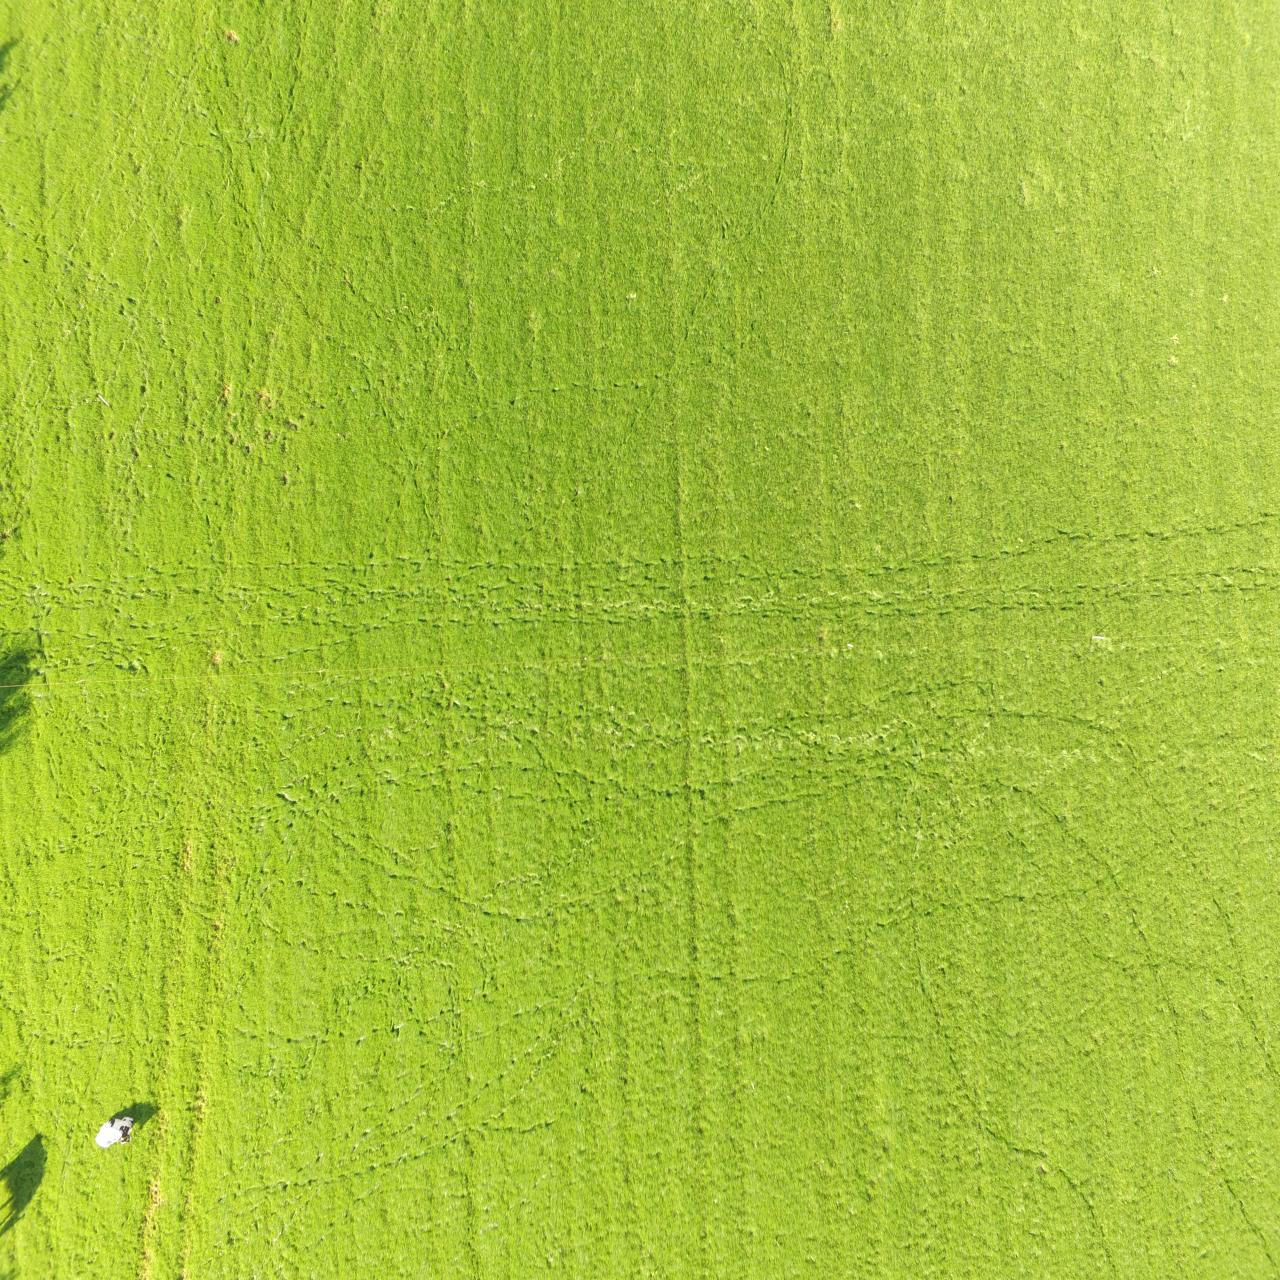cow: (93, 1115, 134, 1151)
